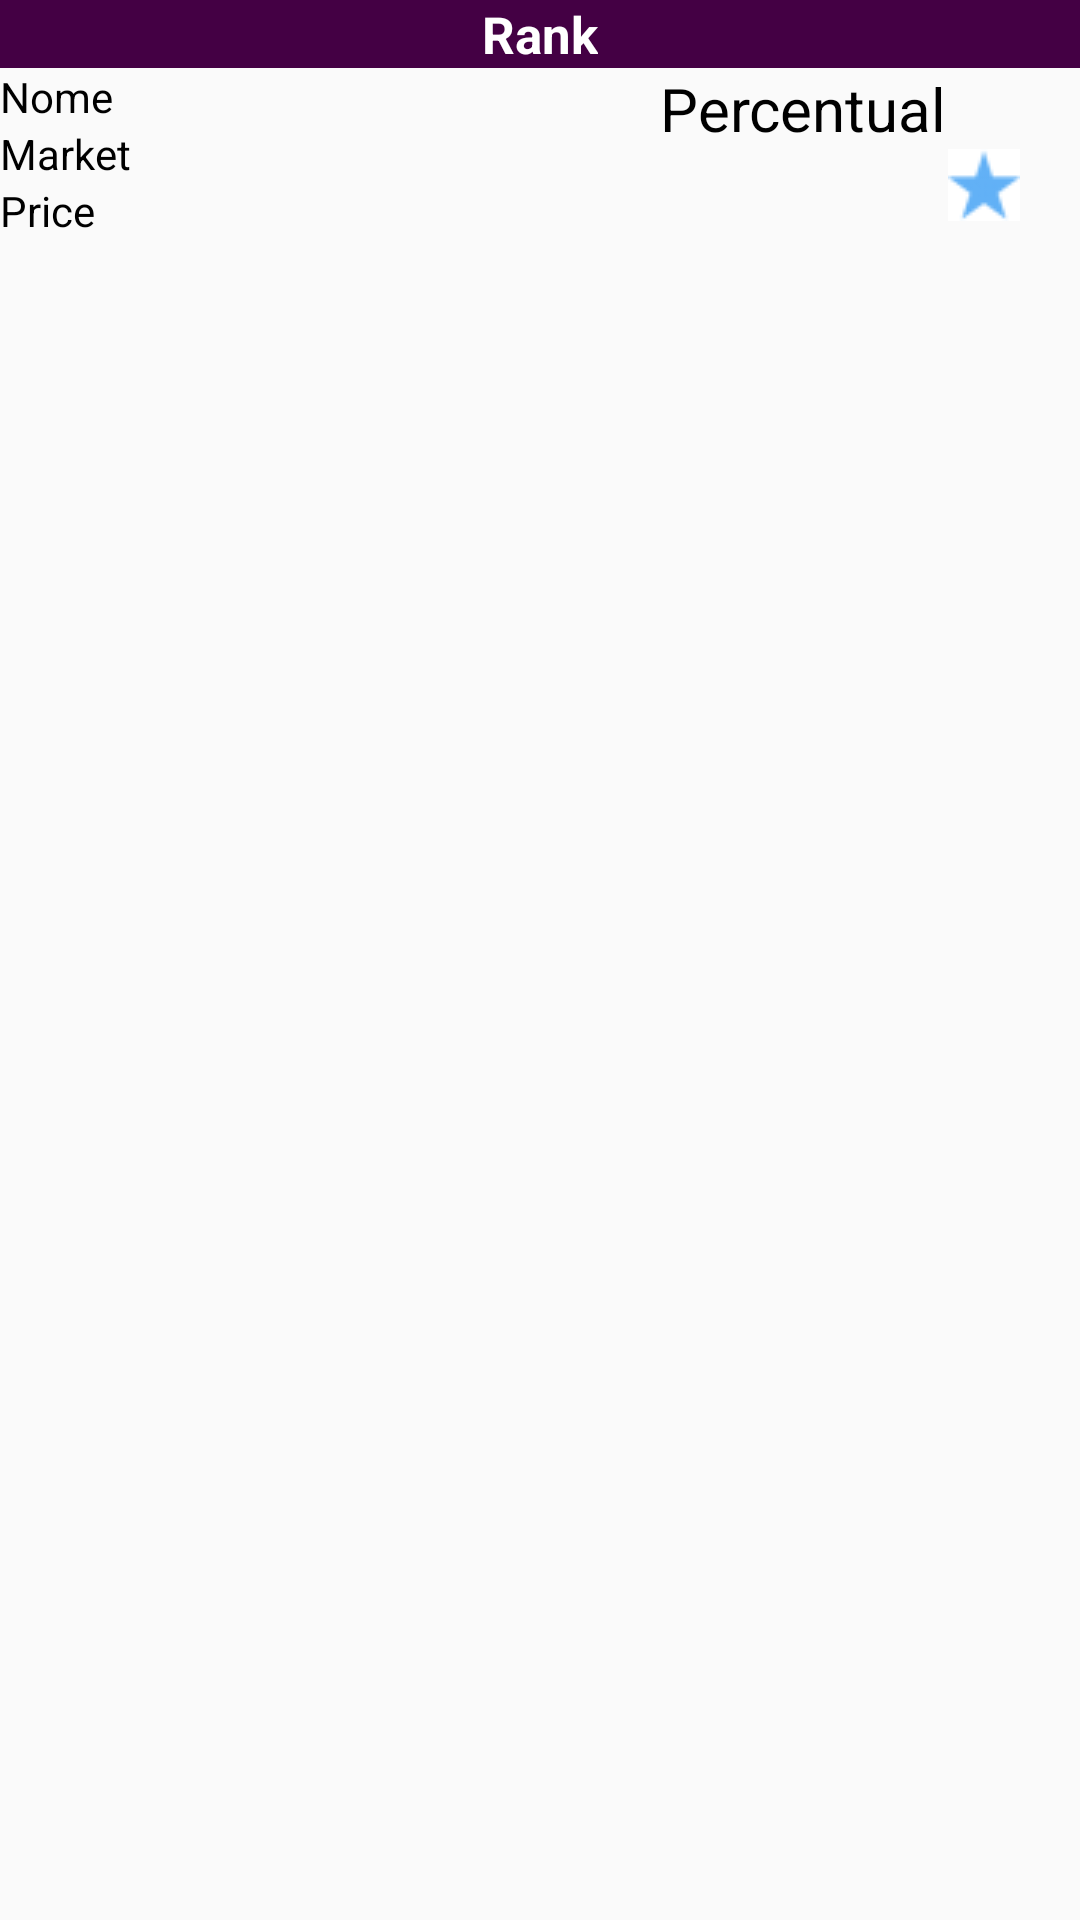

Named icons in this screenshot (1080px×1920px) and their centers, (x,y):
add favorito: (984,185)
